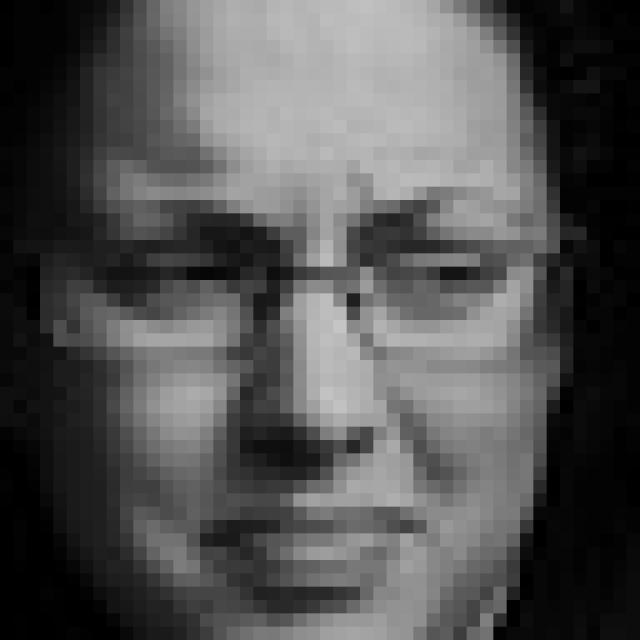disgust: (102, 183, 536, 618)
